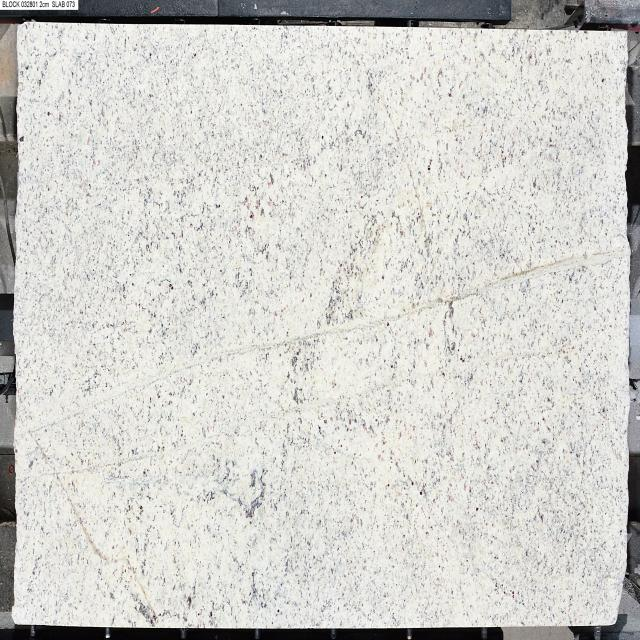chapa: (12, 23, 629, 628)
